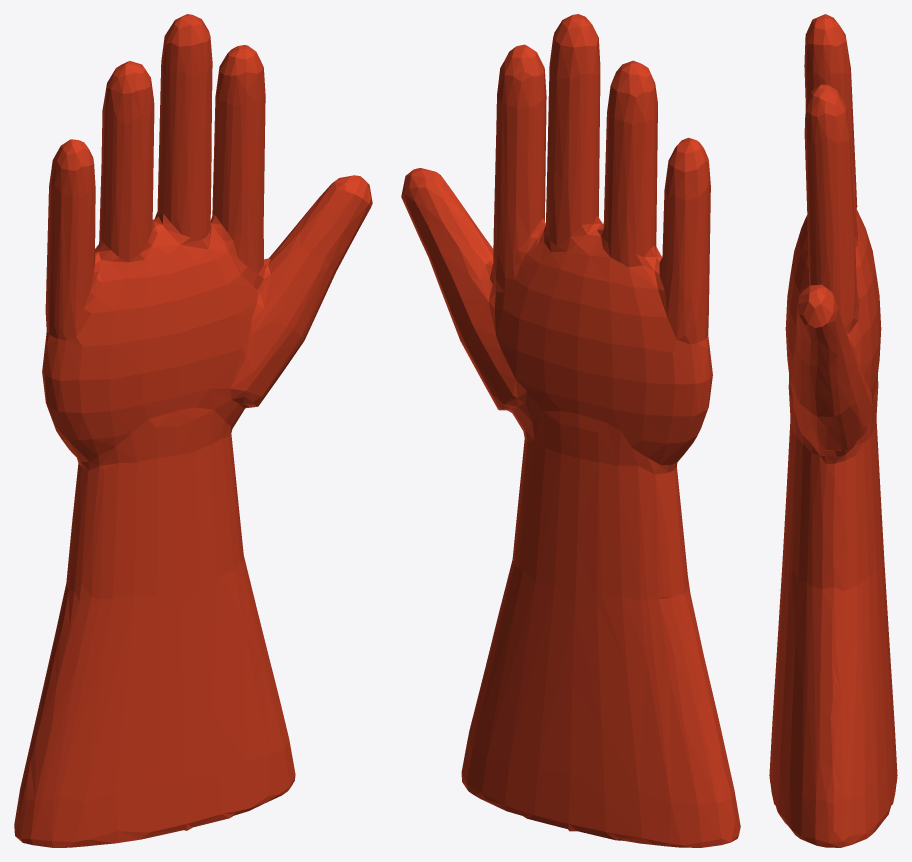
File: Glove_L.fbx
3 renders of one model, left to right at view 1: azimuth 30°, elevation 25°; view 2: azimuth 150°, elevation 25°; view 3: azimuth 270°, elevation 25°, orthographic.
Parts seen in each view (by area): view 1: Glove_L_RubberShell; view 2: Glove_L_RubberShell; view 3: Glove_L_RubberShell.
Boxes of the visible parts, box(x1,y1,x2,y2) form: Glove_L_RubberShell: box(14, 14, 372, 847); Glove_L_RubberShell: box(401, 14, 740, 847); Glove_L_RubberShell: box(769, 14, 897, 847).
Bounding box in the file's own units: 0.1637 × 0.36 × 0.0535.
